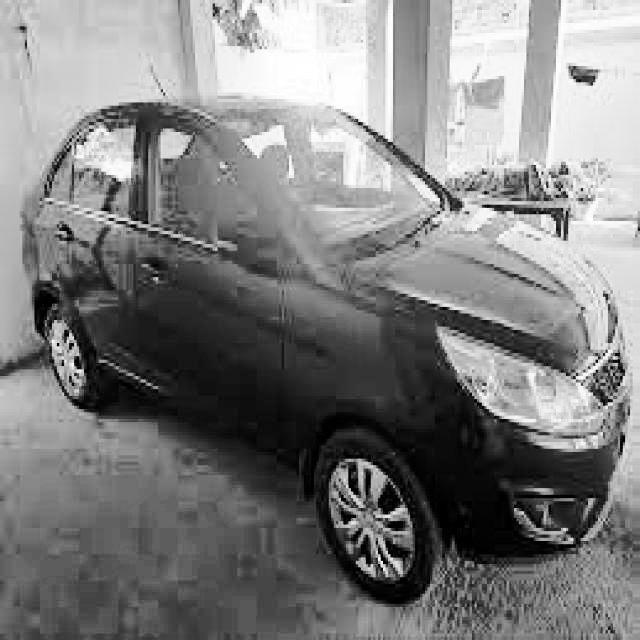Car: (5, 68, 640, 616)
